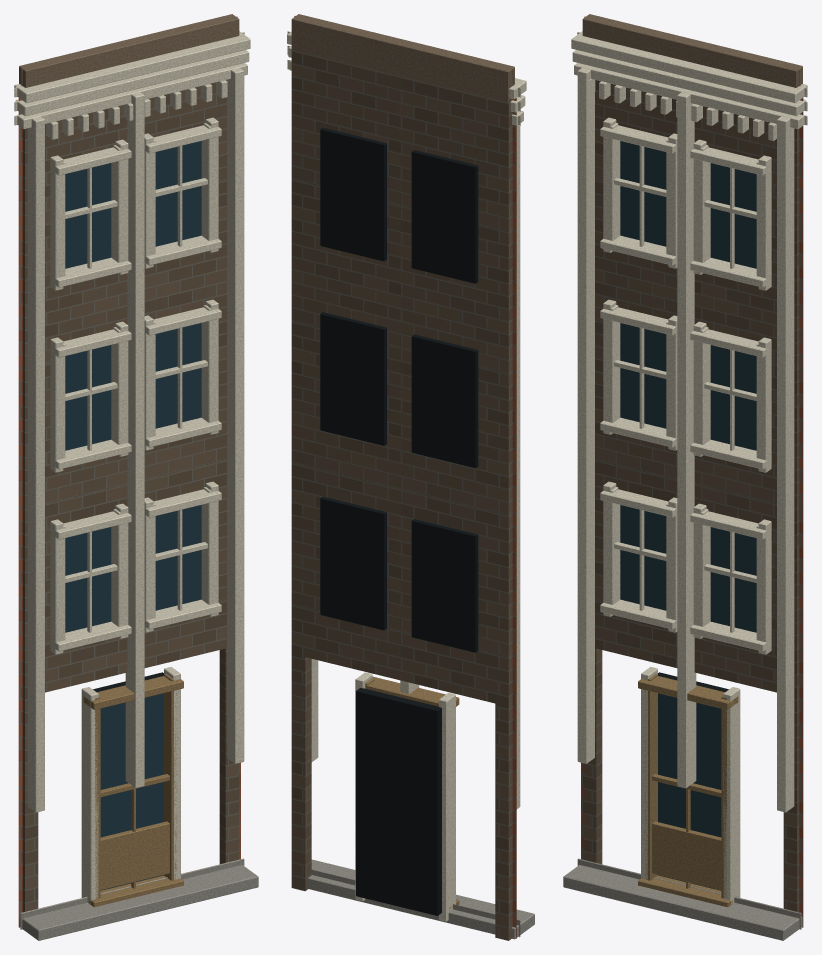
The model's file is OFFC14_lod1.glb.
3 renders of one model, left to right at view 1: azimuth 30°, elevation 25°; view 2: azimuth 150°, elevation 25°; view 3: azimuth 330°, elevation 25°, orthographic.
Parts seen in each view (by area): view 1: OFFC14_FRONT_LOD1; view 2: OFFC14_FRONT_LOD1; view 3: OFFC14_FRONT_LOD1.
Boxes of the visible parts, bbox=[...] form: OFFC14_FRONT_LOD1: bbox=[14, 14, 258, 940]; OFFC14_FRONT_LOD1: bbox=[287, 14, 534, 940]; OFFC14_FRONT_LOD1: bbox=[563, 14, 807, 940].
Size of the model in its own units: 3.44 by 12.26 by 0.68.
9 materials, 7 textured.
